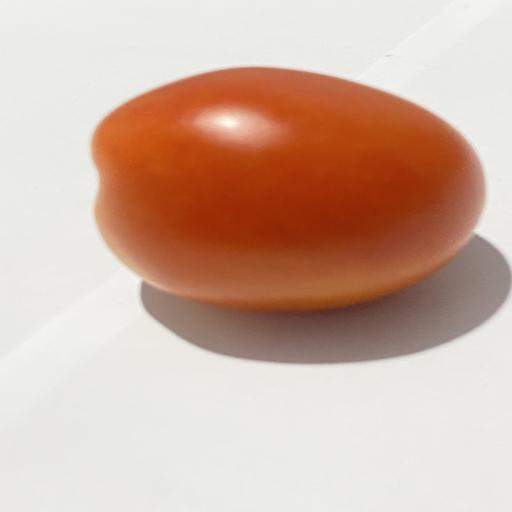ripe: (92, 67, 484, 310)
